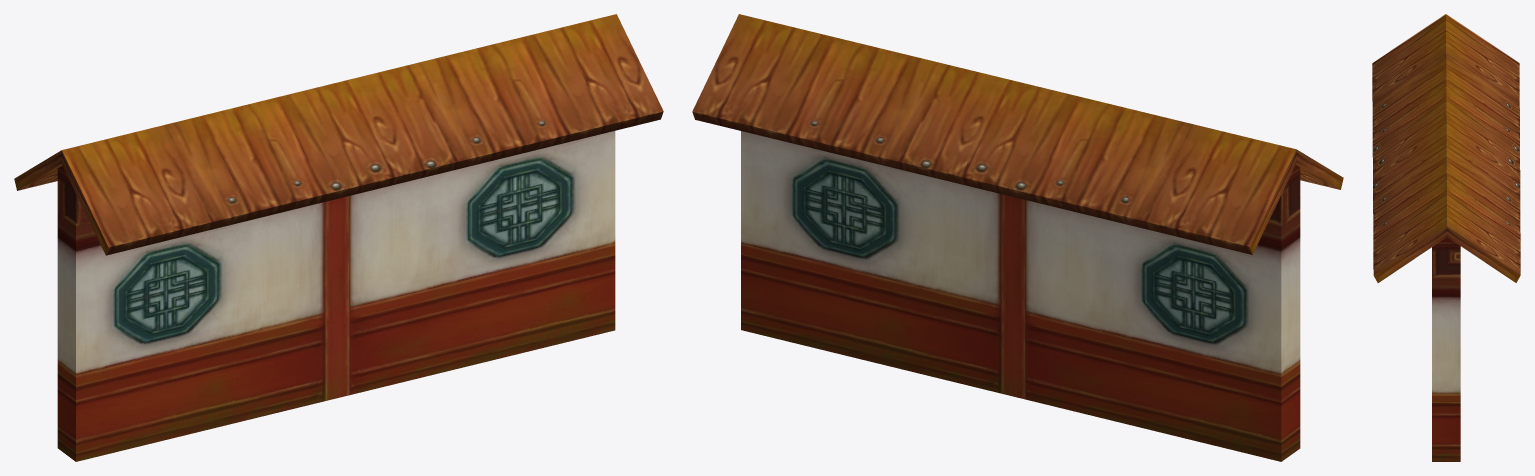
The model's file is Stage_JingJiChang_WeiQiang02.FBX.
3 views of the same model, side by side, from view 1: azimuth 30°, elevation 25°; view 2: azimuth 150°, elevation 25°; view 3: azimuth 270°, elevation 25° (orthographic). The views are drawn at different scales.
Parts seen in each view (by area): view 1: Stage_JingJiChang_WeiQiang02; view 2: Stage_JingJiChang_WeiQiang02; view 3: Stage_JingJiChang_WeiQiang02.
Part boxes in pixels (x1,y1,x2,y2): Stage_JingJiChang_WeiQiang02: [14, 14, 663, 461]; Stage_JingJiChang_WeiQiang02: [692, 14, 1343, 461]; Stage_JingJiChang_WeiQiang02: [1372, 14, 1520, 461].
Size of the model in its own units: 791 by 416 by 234.
